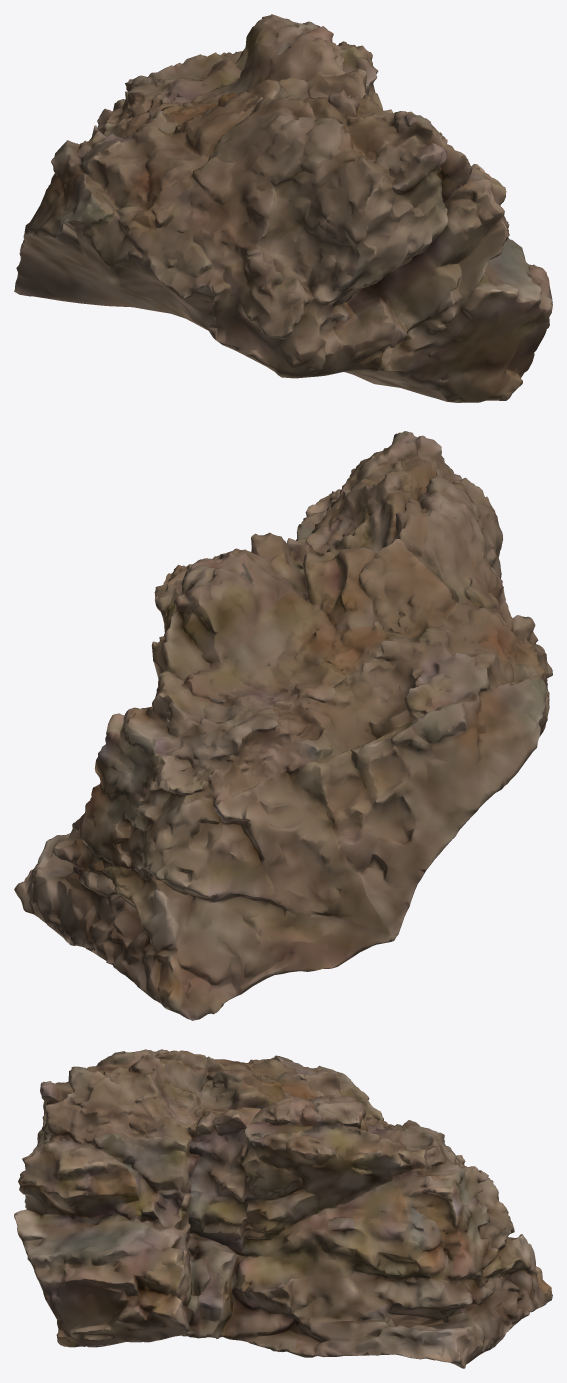
The model's file is boulder_01.glb.
3 views of the same model, one above another, from view 1: azimuth 30°, elevation 25°; view 2: azimuth 150°, elevation 25°; view 3: azimuth 270°, elevation 25° (orthographic). The views are drawn at different scales.
Visible parts, largest first — view 1: boulder_01; view 2: boulder_01; view 3: boulder_01.
Boxes of the visible parts, x1,y1,x2,y2 form: boulder_01: (14, 14, 552, 402); boulder_01: (14, 431, 552, 1020); boulder_01: (14, 1049, 552, 1368).
Bounding box in the file's own units: 1.27 × 1 × 1.83.
Materials: 1 (1 with a texture image).
